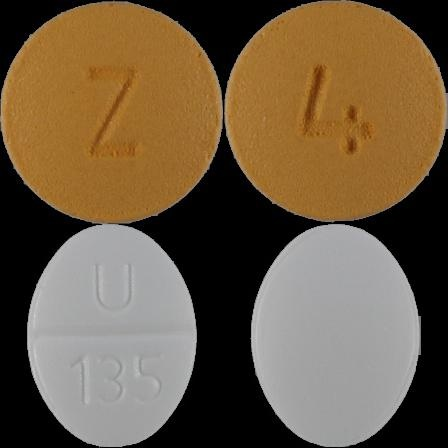63187-418: (0, 0, 224, 224)
